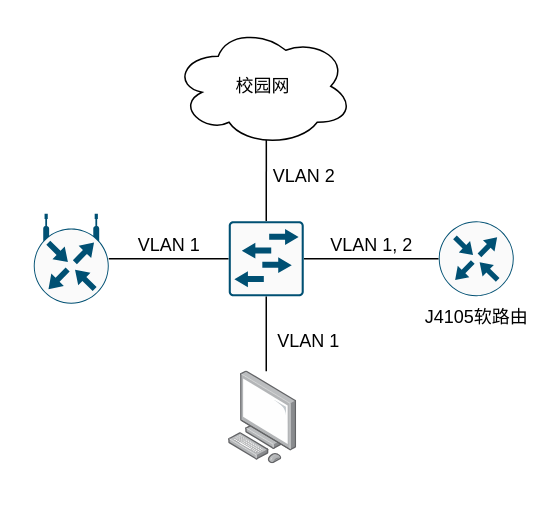
Some shapes in this 554 by 522 pixel diagram are drawn without their labels. The shapes that lost their labels are listed below. From the top down, each one's centre as x and y in pixels, then its label:
At pixel 70 258: "无线路由器".
At pixel 262 416: "上网设备".
